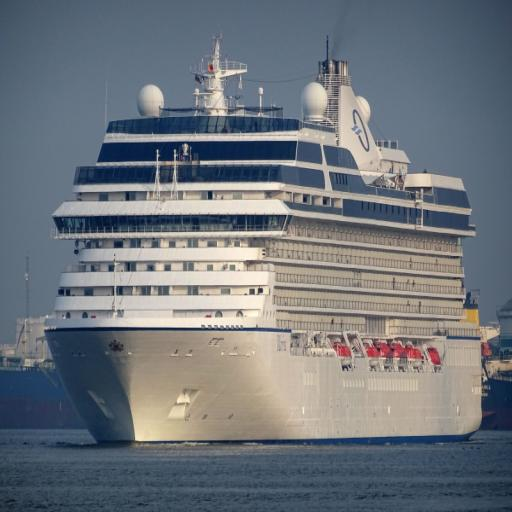cruises: (42, 30, 506, 455)
